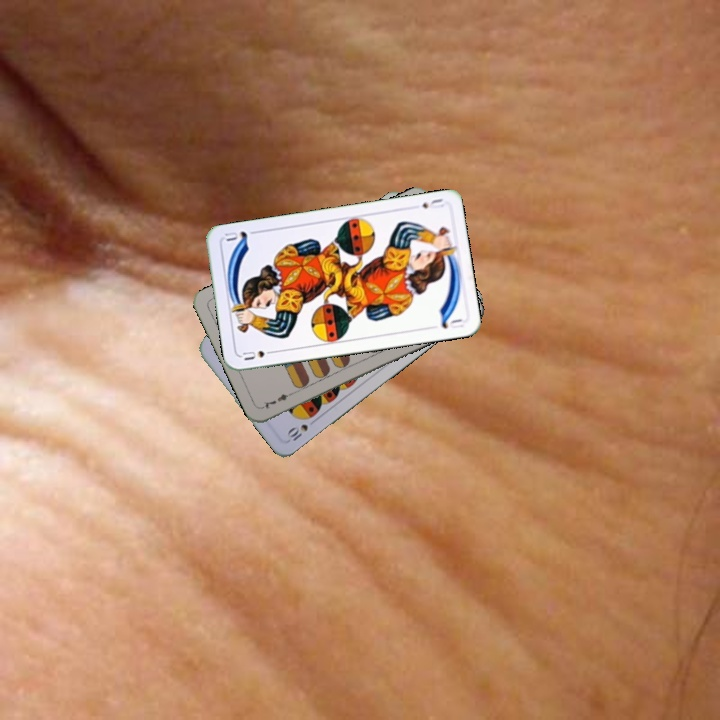E7: (259, 388, 296, 411)
S10: (283, 415, 319, 444)
SU: (239, 346, 278, 363), (418, 194, 446, 211)
